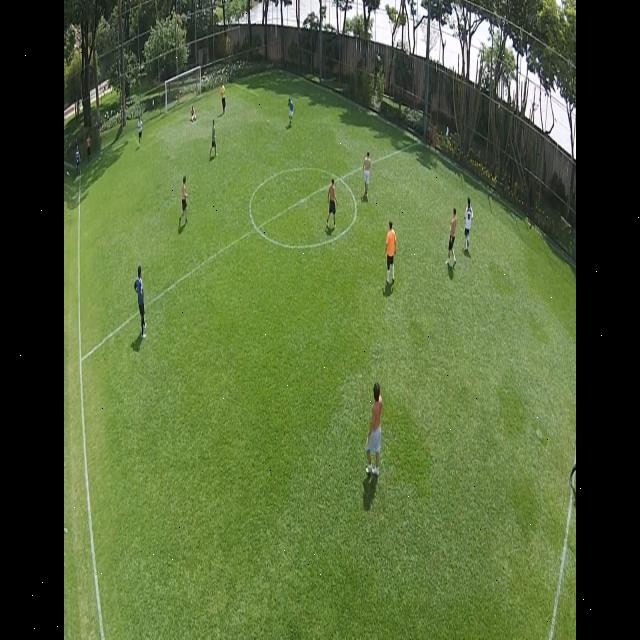humans: (363, 378, 385, 480), (383, 215, 398, 289), (134, 261, 146, 342), (446, 206, 458, 272), (461, 194, 473, 258), (176, 174, 189, 230), (360, 147, 372, 205), (325, 177, 337, 231), (208, 117, 218, 159), (284, 94, 294, 130), (220, 73, 227, 119), (136, 110, 142, 145)
